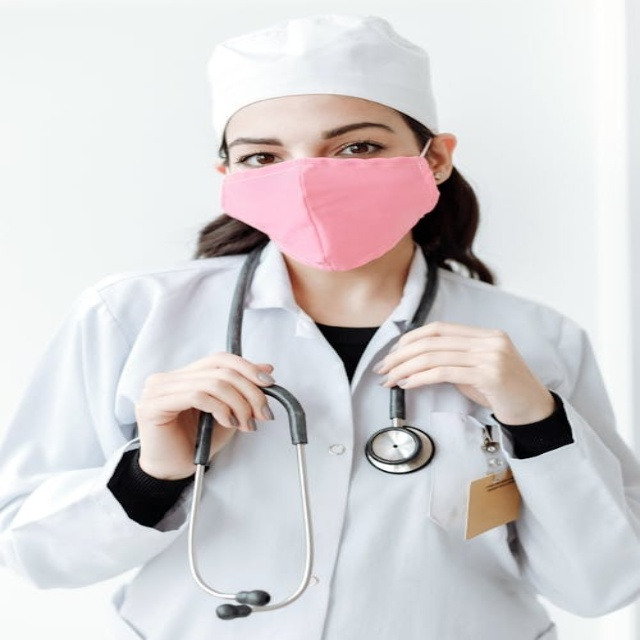Mascara: (220, 140, 441, 271)
Sin_gafas: (225, 118, 406, 168)
Sin_guantes: (375, 318, 544, 416), (136, 354, 279, 454)
